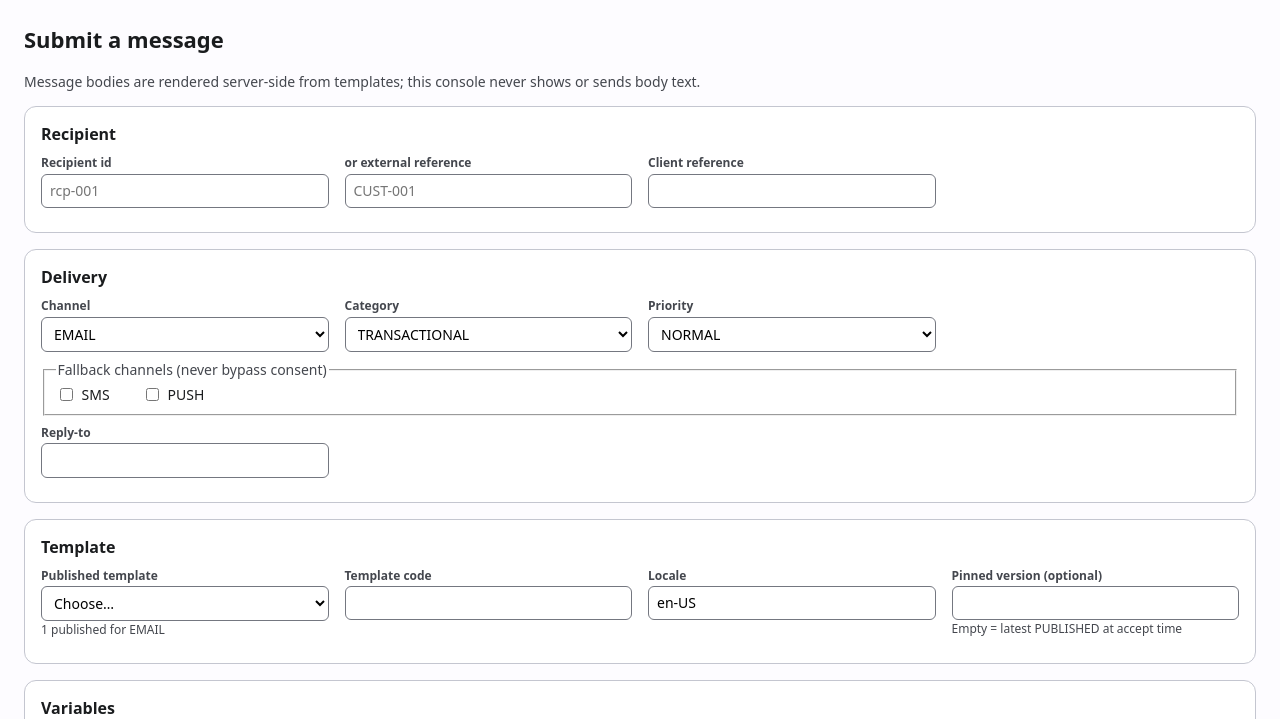
Test: submit message page › shows the mapped server error (idempotency key reuse) with the correlation id
Type "rcp-1" into the field labelled "Recipient id". click: (185, 191)
box: left=41, top=174, right=328, bottom=208
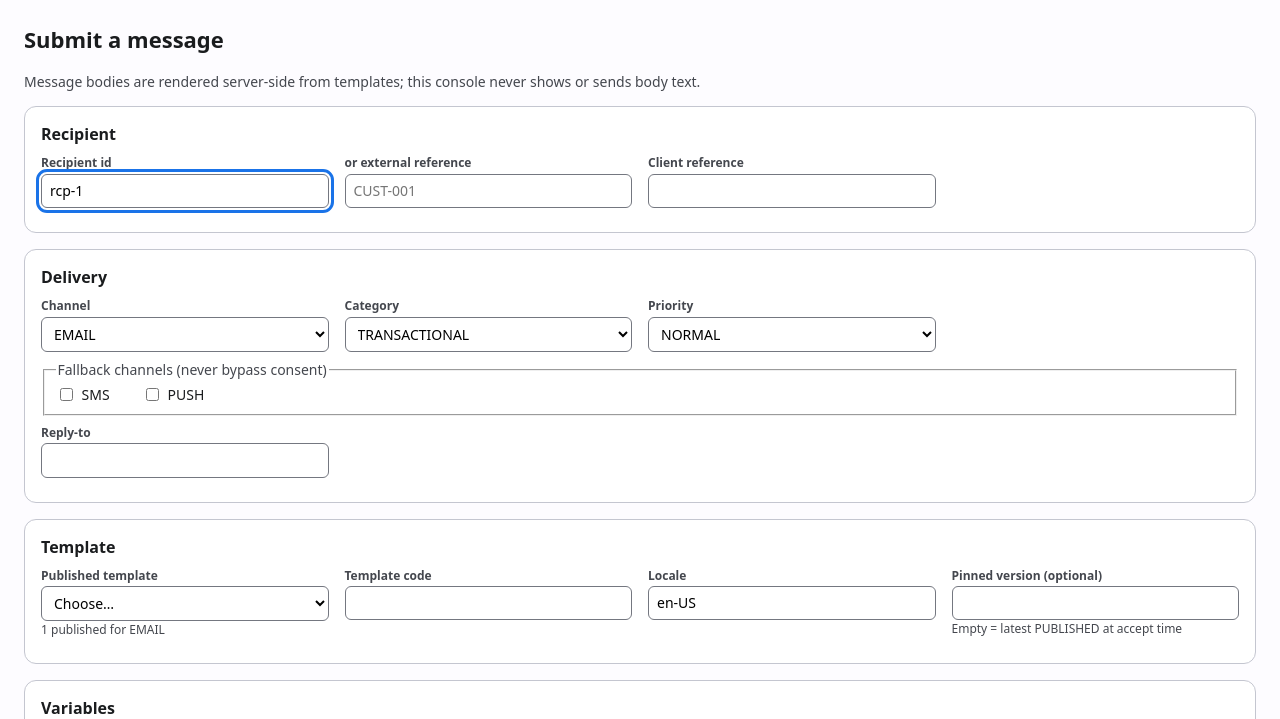
Type "TRADE_CONFIRMATION" into the field labelled "Template code". click: (488, 603)
box: left=344, top=586, right=632, bottom=620
(page scrolled)
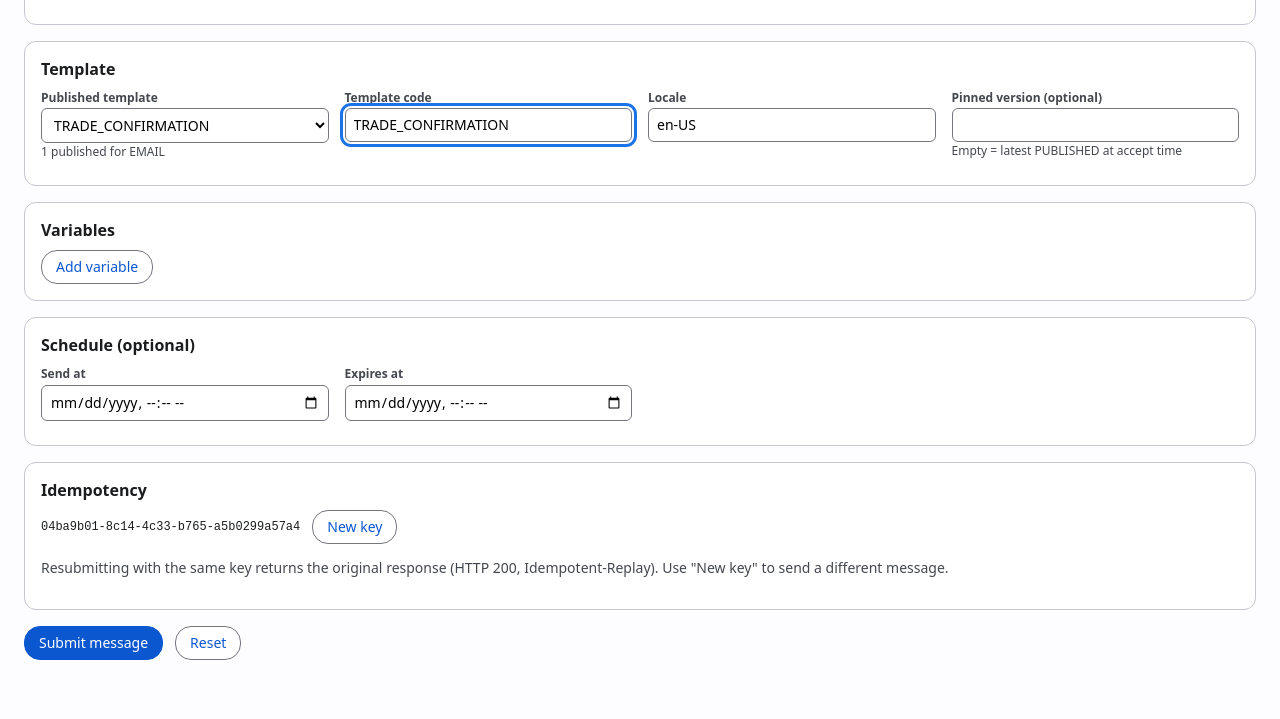
Click the button "Submit message". click: click(94, 643)
box: left=24, top=626, right=163, bottom=660
(page scrolled)
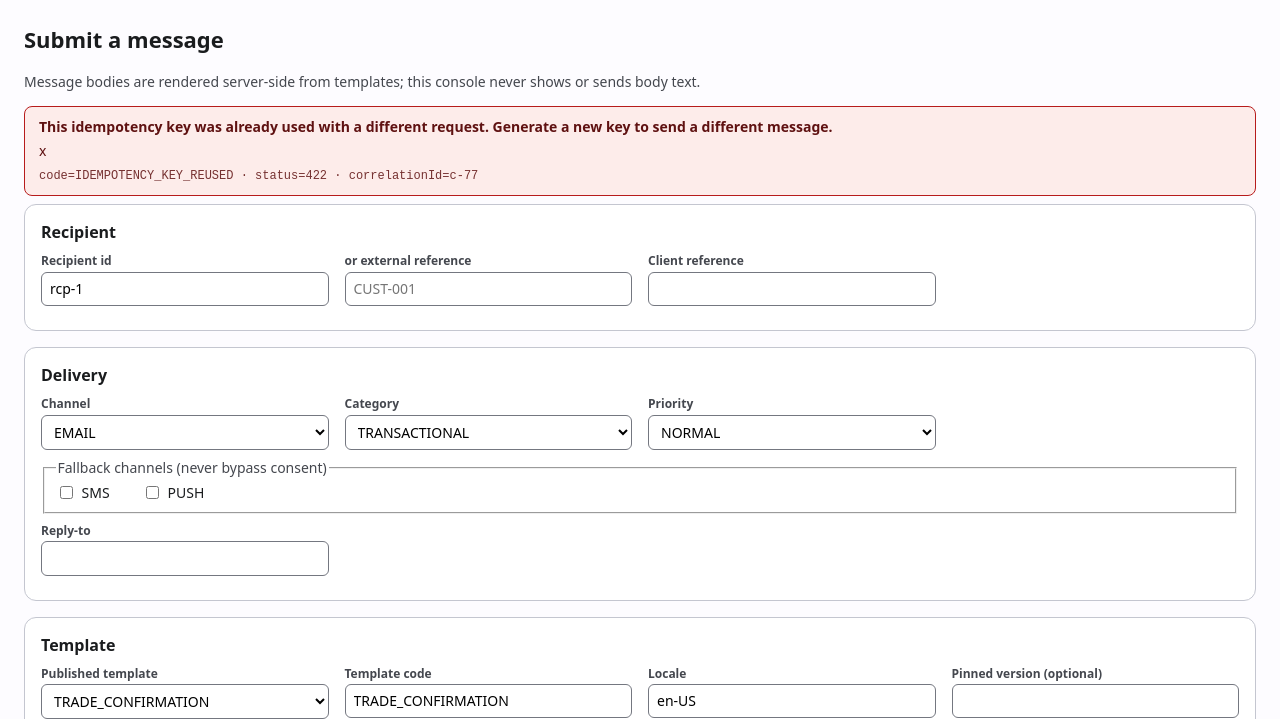
Check: the message shows "already used with a different request", box left=39, top=117, right=833, bottom=136
Check: the message shows "correlationId=c-77", box left=327, top=169, right=478, bottom=183
